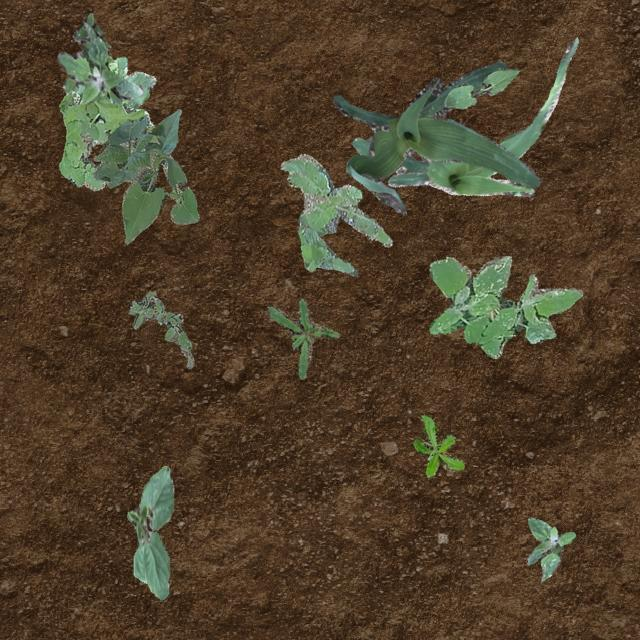crop: (352, 36, 578, 196), (332, 60, 540, 214), (92, 108, 198, 244), (126, 464, 172, 598), (442, 66, 518, 108), (124, 70, 156, 108)
weed: (428, 255, 582, 358), (280, 153, 392, 274), (58, 56, 154, 190), (56, 12, 142, 104), (266, 298, 338, 378), (128, 290, 192, 368), (412, 414, 463, 476), (526, 516, 574, 580)
